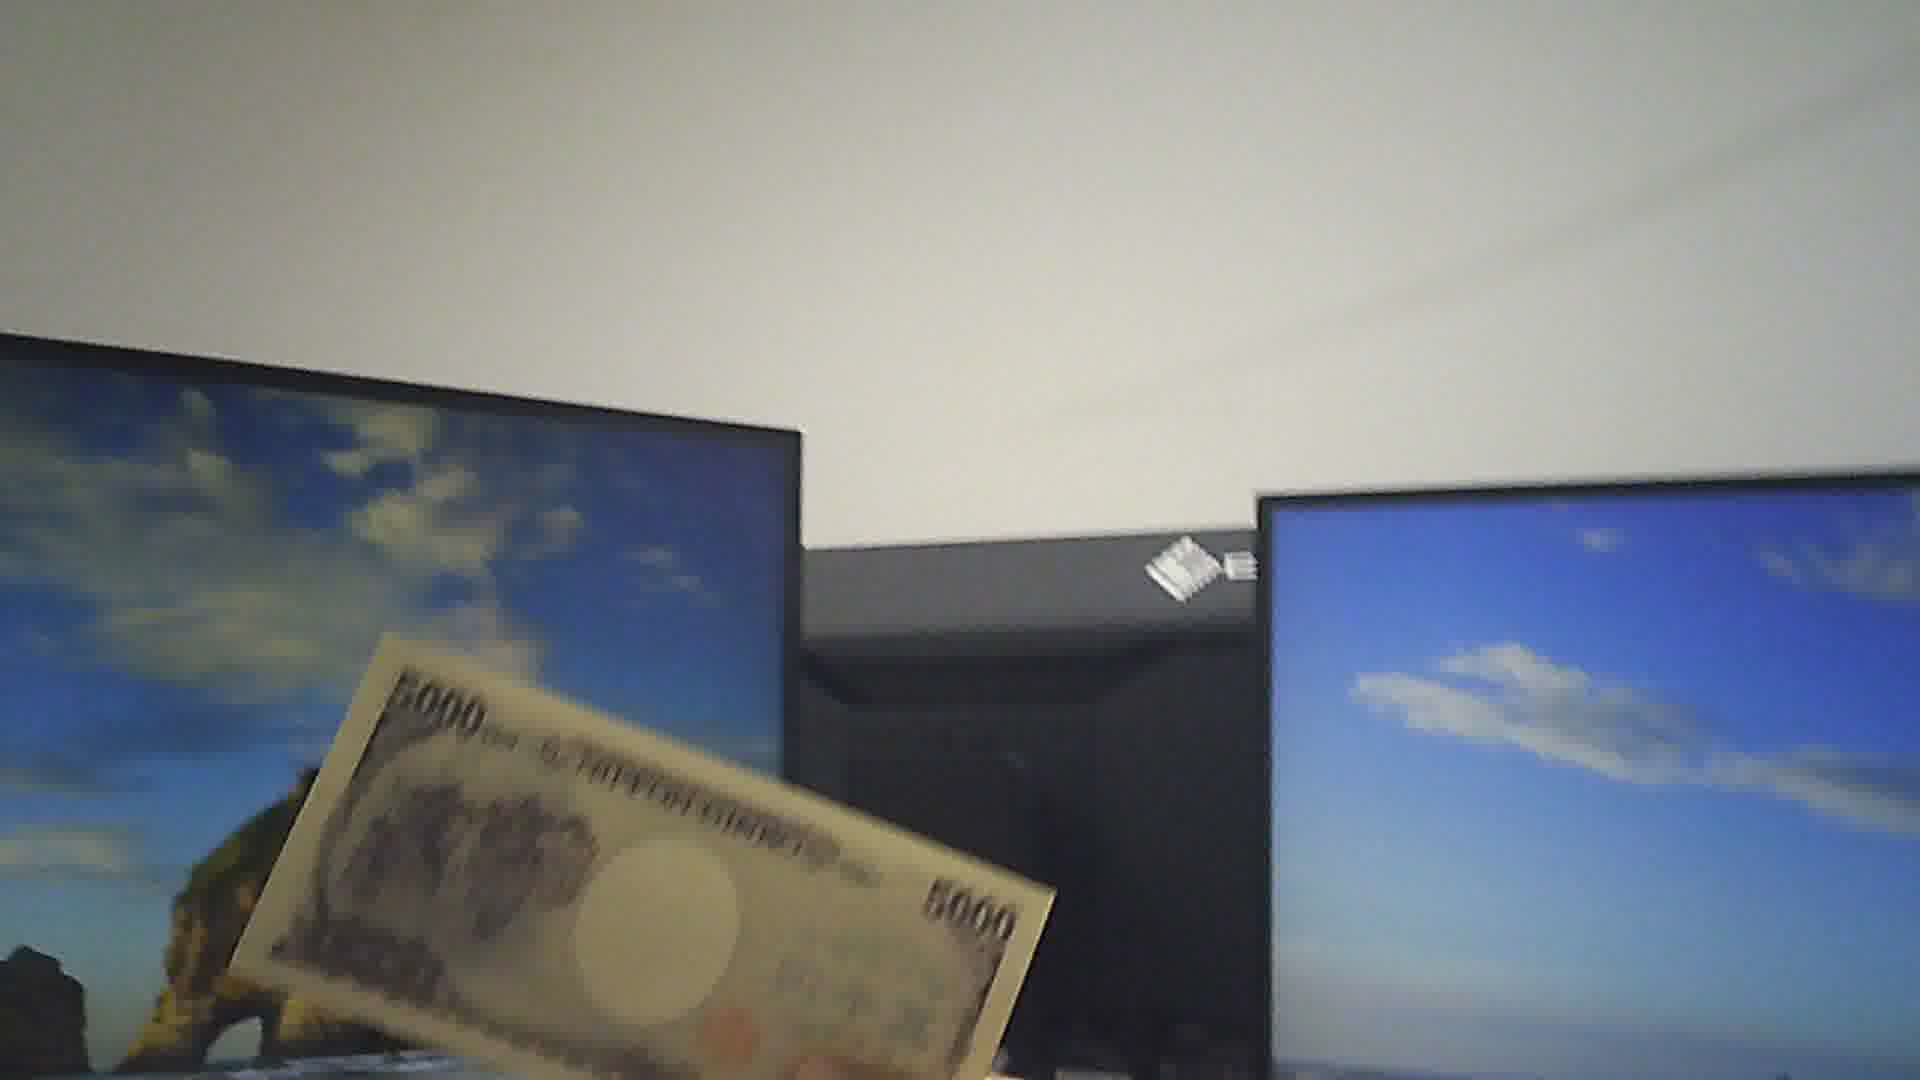5,000 Yen: (225, 641, 1044, 1068)
